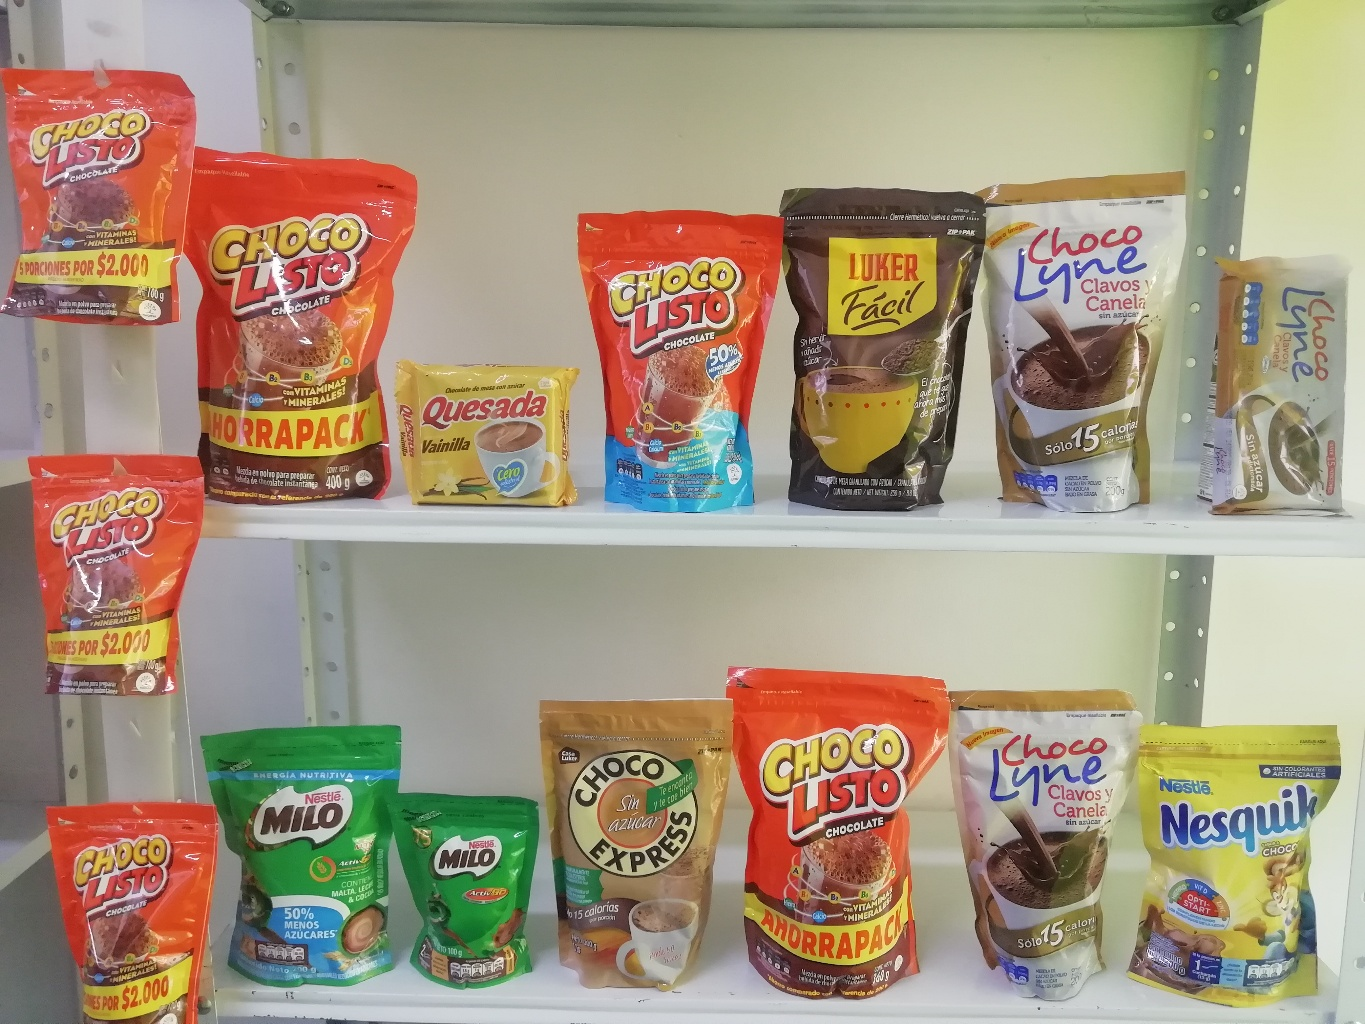COL0170103DYP10000: (1, 66, 196, 328)
COL0170103DYP40000: (175, 139, 417, 508)
COL0170104DYP20000: (572, 201, 783, 510)
COL0170203DYP10000: (382, 785, 551, 992)
COL0170205DYP20000: (200, 731, 410, 986)
COL0170303DYP20000: (1137, 720, 1347, 1009)
